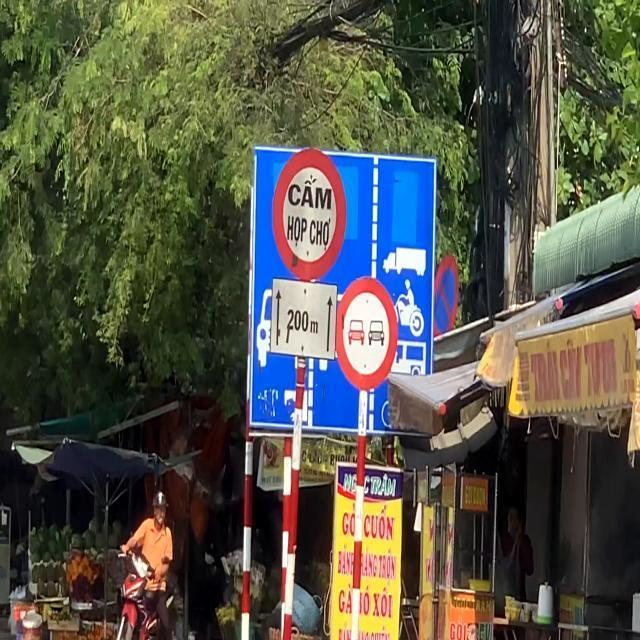125-cam-vuot: (337, 278, 399, 392)
131a-cam-do-xe: (431, 257, 462, 341)
